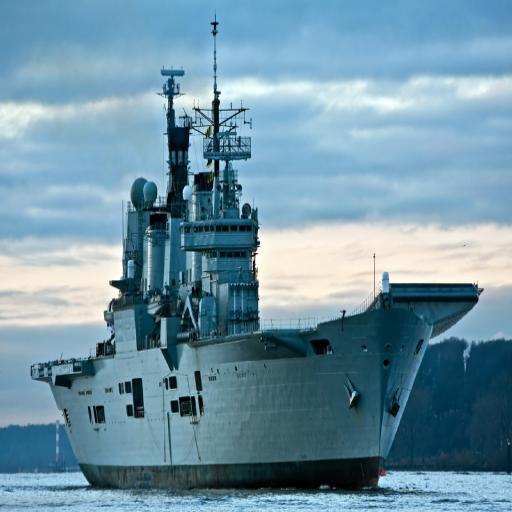Portanaves: (28, 10, 483, 494)
